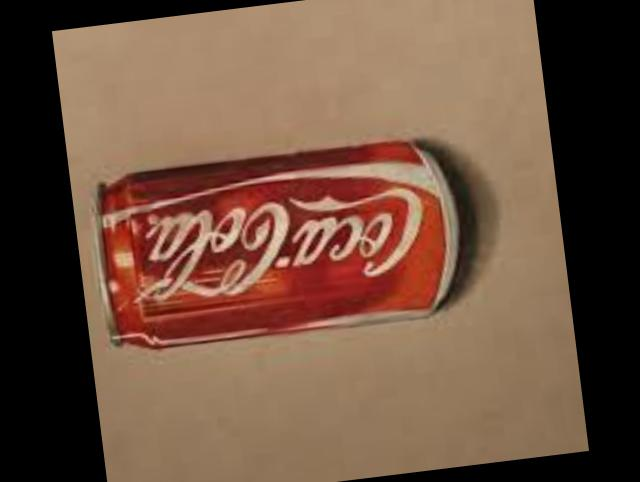metal: (91, 146, 454, 351)
